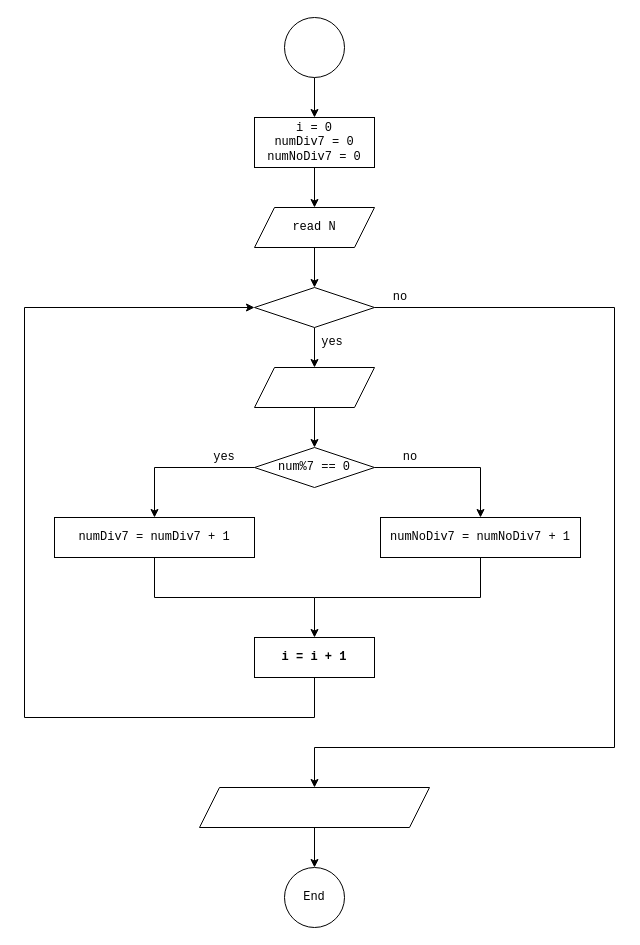
Image size: 640x945. Some labels were removed from this diagram. Here are the shapes that lost their labels. From the top down, the centre of each, then its label:
the point at 314,47: Start
the point at 314,307: i < N
the point at 314,387: read num
the point at 314,807: print numDiv7, numNoDiv7
